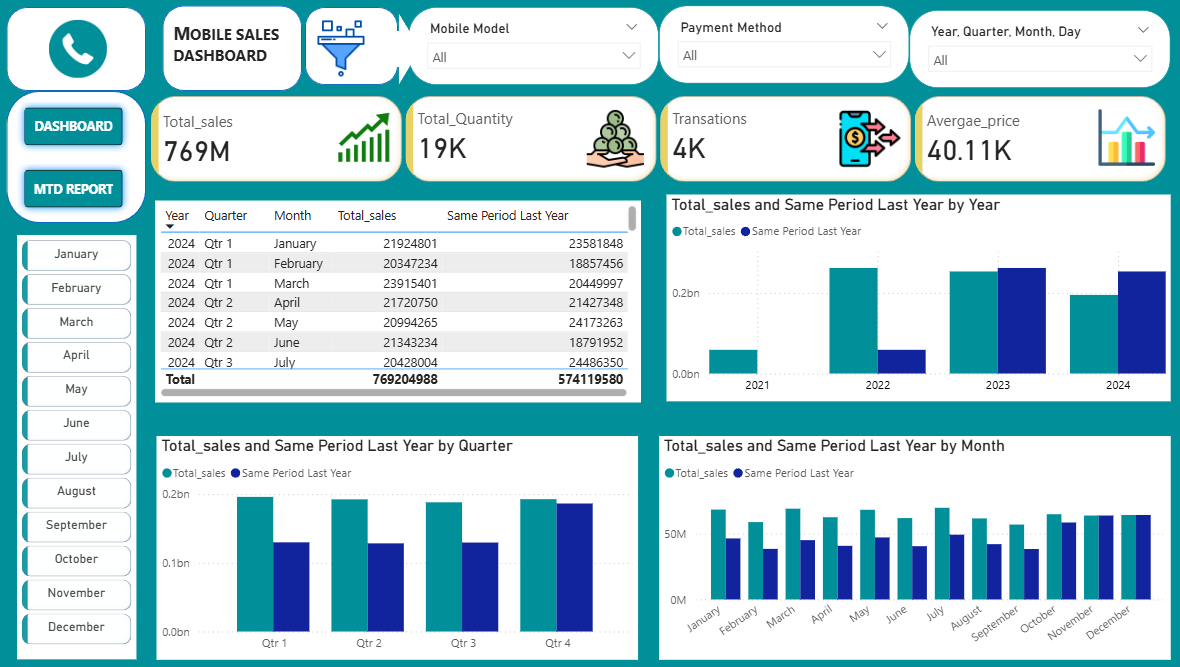

Layout of this report page (visuals, bound fields, positions):
{"tool":"powerbi","page":{"name":"SAME PERIOD LAST YEAR","canvas":[1280,720],"ordinal":2},"visuals":[{"type":"shape","box":[20.7,15.9,147.9,89.1],"z":0},{"type":"image","box":[60.4,22.3,71.6,76.3],"z":1000},{"type":"shape","box":[20.7,105,147.9,140],"z":2000},{"type":"cardVisual","fields":{"Data":["Sales_data.Total_sales","Sales_data.Total_Quantity","Sales_data.Transations","Sales_data.Avergae_price"]},"box":[168.6,105,1086.4,101.8],"z":3000},{"type":"slicer","fields":{"Values":["Sales_data.Mobile Model"]},"box":[447,15.9,265.6,82.7],"z":4000},{"type":"slicer","fields":{"Values":["Sales_data.Payment Method"]},"box":[712.6,14.3,265.6,82.7],"z":5000},{"type":"slicer","fields":{"Values":["Calendar.Date.Variation.Date Hierarchy.Year","Calendar.Date.Variation.Date Hierarchy.Quarter","Calendar.Date.Variation.Date Hierarchy.Month","Calendar.Date.Variation.Date Hierarchy.Day"]},"box":[978.2,19.1,276.8,82.7],"z":6000},{"type":"shape","box":[337.2,15.9,98.6,82.7],"z":7000},{"type":"image","box":[334,23.9,82.7,71.6],"z":8000},{"type":"shape","box":[413.6,22.3,46.1,76.3],"z":9000},{"type":"shape","box":[186.1,14.3,147.9,90.7],"z":10000},{"type":"textbox","box":[192.5,25.4,136.8,66.8],"z":11000},{"type":"tableEx","fields":{"Values":["Calendar.Date.Variation.Date Hierarchy.Year","Calendar.Date.Variation.Date Hierarchy.Quarter","Calendar.Date.Variation.Date Hierarchy.Month","Sales_data.Total_sales","Sales_data.Same Period Last Year"]},"box":[178.1,221.1,515.4,213.1],"z":12000},{"type":"advancedSlicerVisual","fields":{"Values":["Calendar.Date.Variation.Date Hierarchy.Month"]},"box":[32.1,257,126.6,449.8],"z":13000},{"type":"clusteredColumnChart","fields":{"Category":["Calendar.Date.Variation.Date Hierarchy.Year","Calendar.Date.Variation.Date Hierarchy.Quarter","Calendar.Date.Variation.Date Hierarchy.Month"],"Y":["Sales_data.Total_sales","Sales_data.Same Period Last Year"]},"box":[720.5,214.7,534.4,219.5],"z":14000},{"type":"clusteredColumnChart","fields":{"Category":["Calendar.Date.Variation.Date Hierarchy.Year","Calendar.Date.Variation.Date Hierarchy.Quarter","Calendar.Date.Variation.Date Hierarchy.Month"],"Y":["Sales_data.Total_sales","Sales_data.Same Period Last Year"]},"box":[712.6,470.8,542.4,237],"z":15000},{"type":"clusteredColumnChart","fields":{"Category":["Calendar.Date.Variation.Date Hierarchy.Year","Calendar.Date.Variation.Date Hierarchy.Quarter","Calendar.Date.Variation.Date Hierarchy.Month"],"Y":["Sales_data.Total_sales","Sales_data.Same Period Last Year"]},"box":[179.7,470.8,510.6,237],"z":16000},{"type":"pageNavigator","box":[31.8,114.5,120.9,122.5],"z":17000}]}

Visuals, with their boxes in screenshot pixels (x1, y1, x2, y2), scaled from the page's 1280x720 canvas onto the 1180x667 screenshot:
shape: <box>19,15,155,97</box>
image: <box>56,21,122,91</box>
shape: <box>19,97,155,227</box>
cardVisual - Sales_data.Total_sales x Sales_data.Total_Quantity: <box>155,97,1157,192</box>
slicer - Sales_data.Mobile Model: <box>412,15,657,91</box>
slicer - Sales_data.Payment Method: <box>657,13,902,90</box>
slicer - Calendar.Date.Variation.Date Hierarchy.Year x Calendar.Date.Variation.Date Hierarchy.Quarter: <box>902,18,1157,94</box>
shape: <box>311,15,402,91</box>
image: <box>308,22,384,88</box>
shape: <box>381,21,424,91</box>
shape: <box>172,13,308,97</box>
textbox: <box>177,24,304,85</box>
tableEx - Calendar.Date.Variation.Date Hierarchy.Year x Calendar.Date.Variation.Date Hierarchy.Quarter: <box>164,205,639,402</box>
advancedSlicerVisual - Calendar.Date.Variation.Date Hierarchy.Month: <box>30,238,146,655</box>
clusteredColumnChart - Calendar.Date.Variation.Date Hierarchy.Year x Calendar.Date.Variation.Date Hierarchy.Quarter: <box>664,199,1157,402</box>
clusteredColumnChart - Calendar.Date.Variation.Date Hierarchy.Year x Calendar.Date.Variation.Date Hierarchy.Quarter: <box>657,436,1157,656</box>
clusteredColumnChart - Calendar.Date.Variation.Date Hierarchy.Year x Calendar.Date.Variation.Date Hierarchy.Quarter: <box>166,436,636,656</box>
pageNavigator: <box>29,106,141,220</box>
